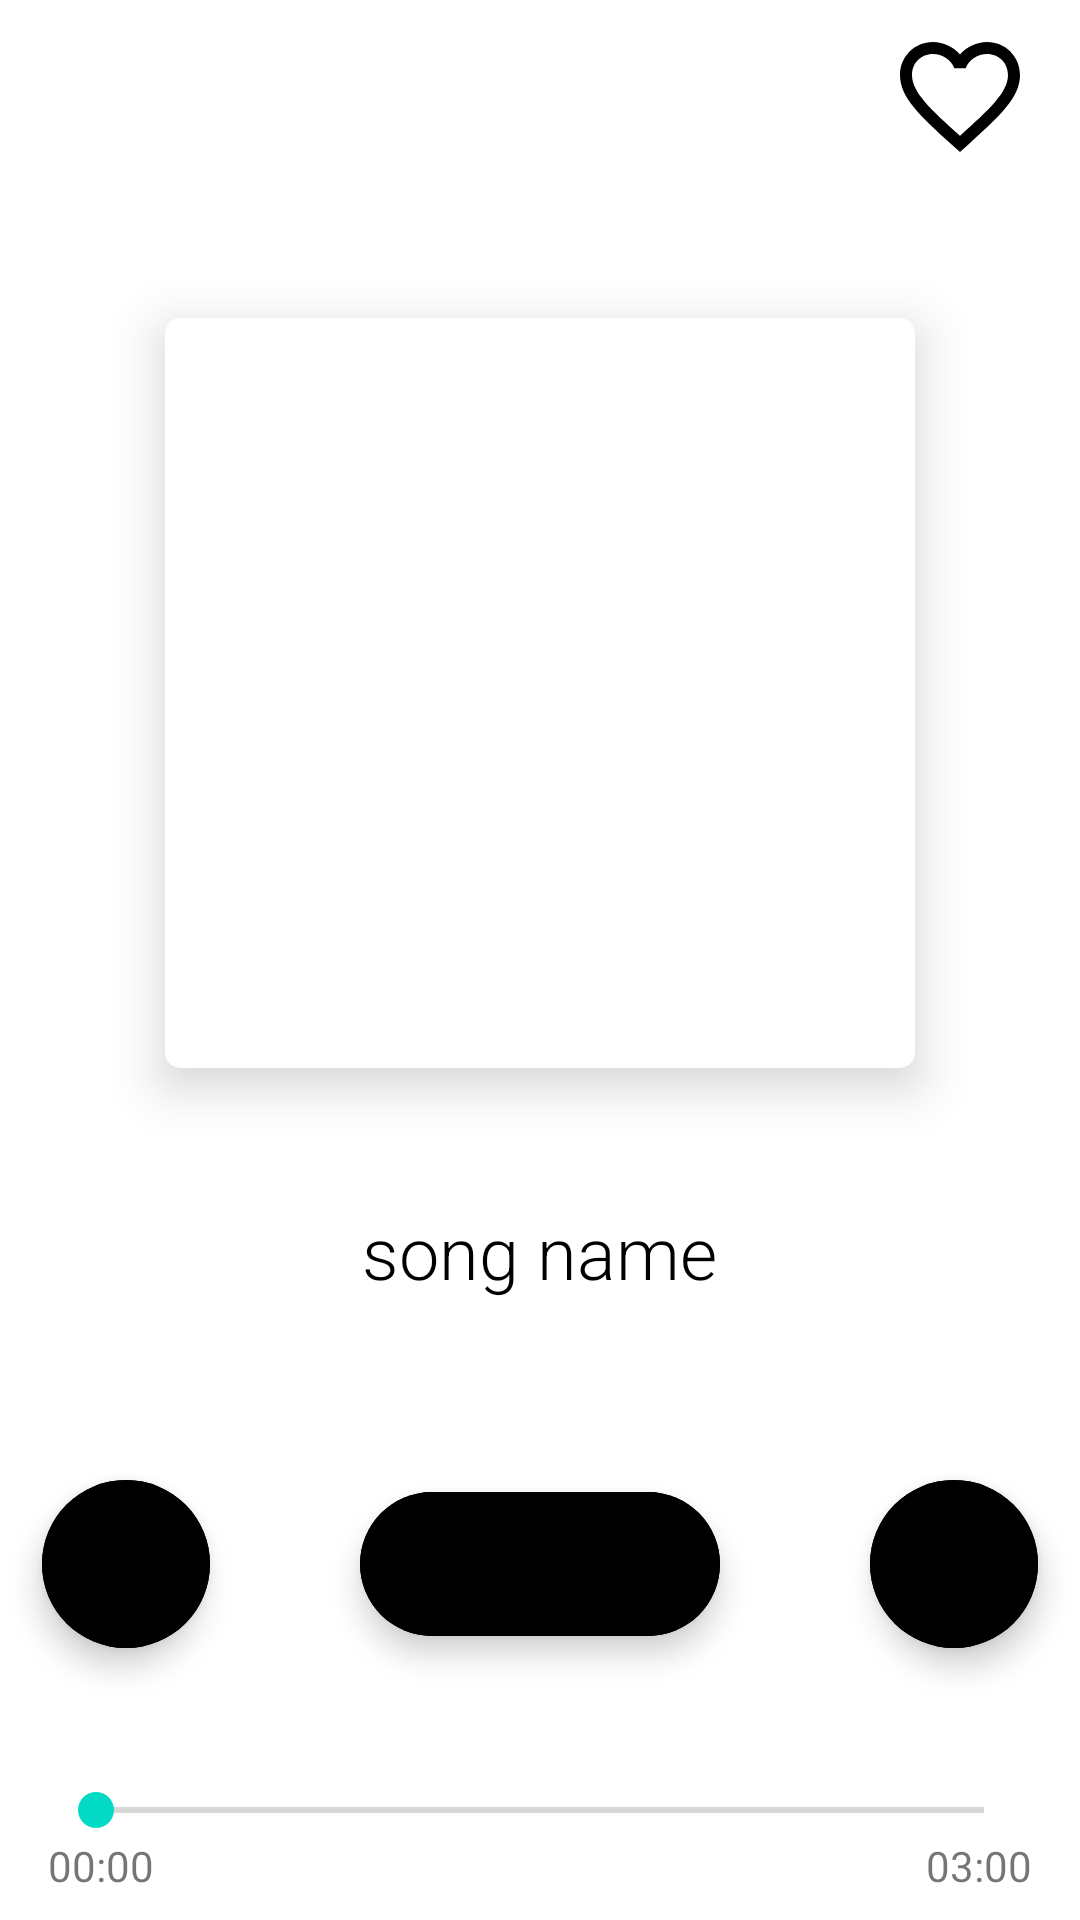

Locate icon controls on the screen. Image size 1080*1920, boxes as (x1, y1, x2, y2).
favorite: (900, 42, 1020, 152)
